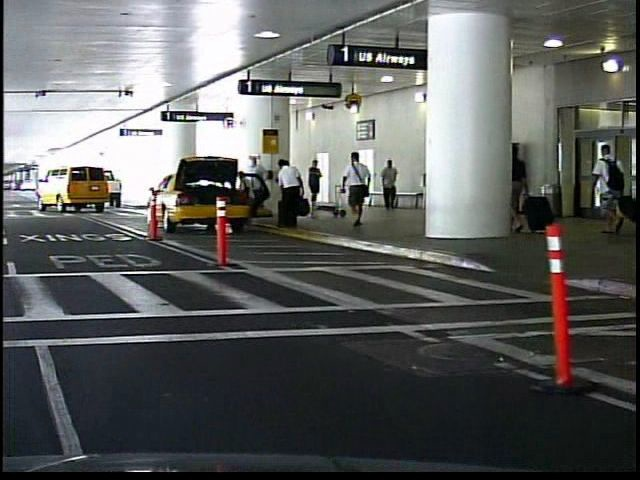person: (484, 137, 524, 236), (585, 143, 627, 237), (335, 147, 371, 230), (376, 154, 397, 216)
